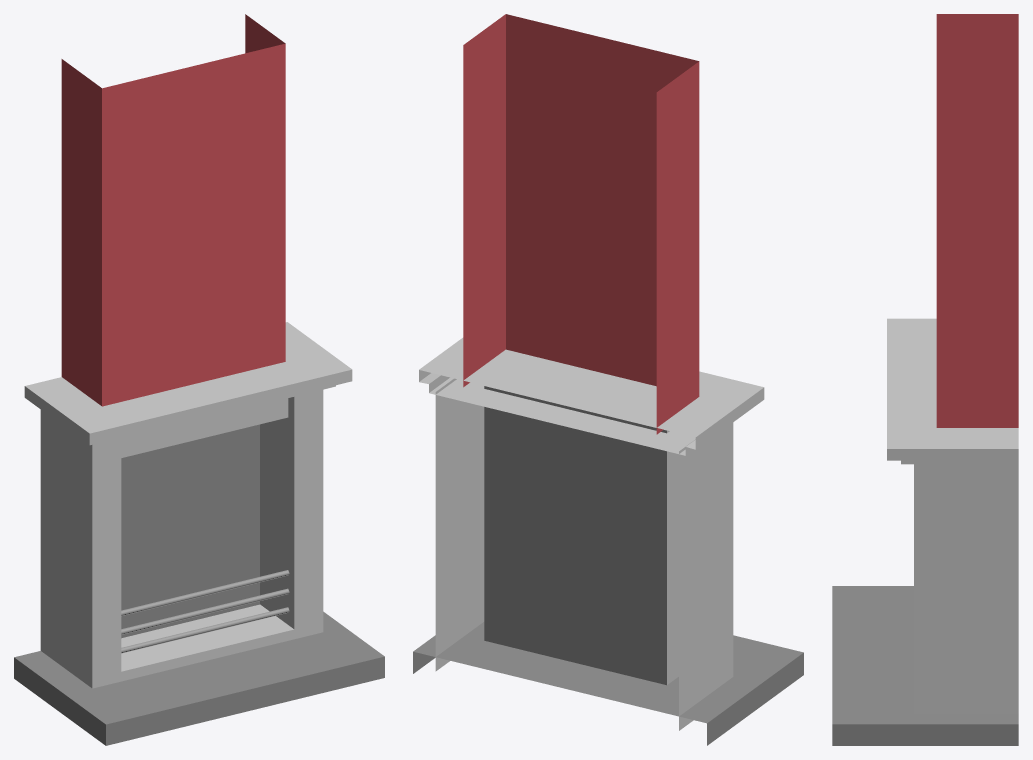
File: SM_Fireplace_001.fbx
3 views of the same model, side by side, from view 1: azimuth 30°, elevation 25°; view 2: azimuth 150°, elevation 25°; view 3: azimuth 270°, elevation 25° (orthographic). The views are drawn at different scales.
Visible parts, largest first — view 1: Openhaard; view 2: Openhaard; view 3: Openhaard.
Boxes of the visible parts, <box> form: Openhaard: <box>14,14,384,745</box>; Openhaard: <box>413,14,803,745</box>; Openhaard: <box>832,14,1018,745</box>.
Bounding box in the file's own units: 0.7288 × 1.52 × 0.4159.
